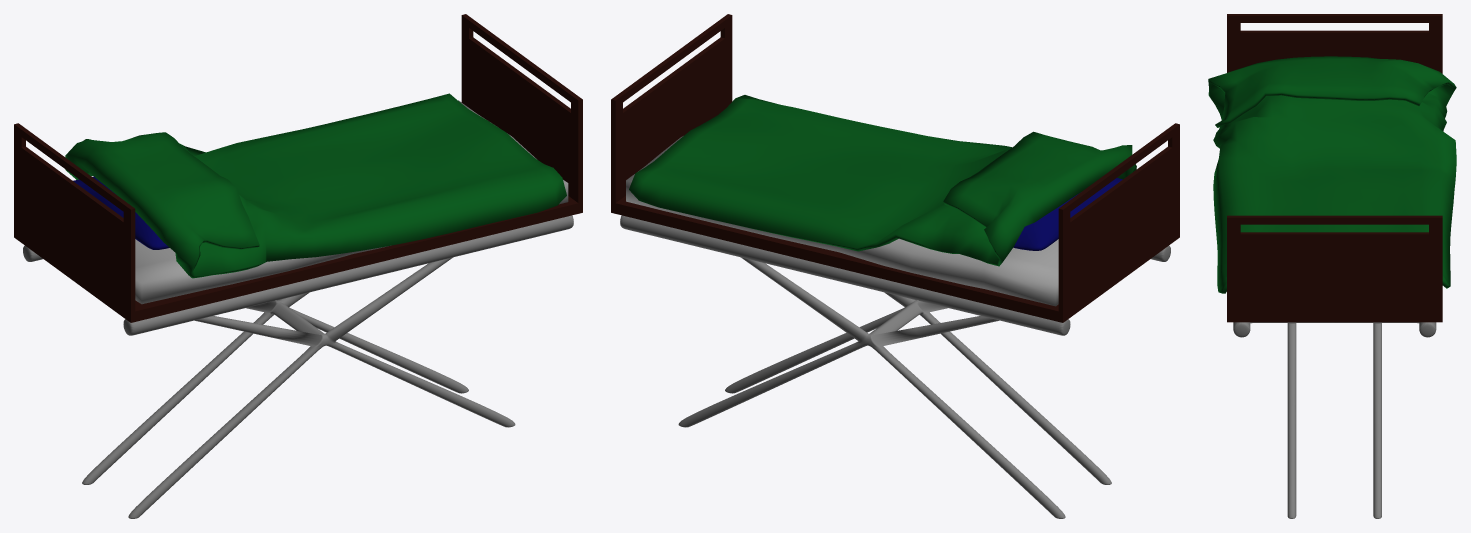
The model's file is Seng.obj.
3 renders of one model, left to right at view 1: azimuth 30°, elevation 25°; view 2: azimuth 150°, elevation 25°; view 3: azimuth 270°, elevation 25°, orthographic. The views are drawn at different scales.
Visible parts, largest first — view 1: Bed_Cover_Plane, Bed_frame_Cube.002, Bed_legs_Cylinder, Bed_Madras_Cube, Bed_Pillow_Plane.001; view 2: Bed_Cover_Plane, Bed_frame_Cube.002, Bed_legs_Cylinder, Bed_Madras_Cube, Bed_Pillow_Plane.001; view 3: Bed_Cover_Plane, Bed_frame_Cube.002, Bed_legs_Cylinder.
Boxes of the visible parts, x1,y1,x2,y2 form: Bed_Cover_Plane: (65, 93, 566, 278); Bed_frame_Cube.002: (14, 14, 582, 322); Bed_legs_Cylinder: (23, 215, 573, 518); Bed_Madras_Cube: (135, 100, 568, 304); Bed_Pillow_Plane.001: (73, 176, 169, 249); Bed_Cover_Plane: (629, 95, 1136, 266); Bed_frame_Cube.002: (611, 14, 1179, 322); Bed_legs_Cylinder: (620, 215, 1170, 518); Bed_Madras_Cube: (626, 136, 1058, 306); Bed_Pillow_Plane.001: (1013, 178, 1122, 250); Bed_Cover_Plane: (1208, 56, 1456, 293); Bed_frame_Cube.002: (1227, 14, 1442, 322); Bed_legs_Cylinder: (1233, 322, 1436, 518).
Size of the model in its own units: 2.23 by 1.62 by 1.15.
